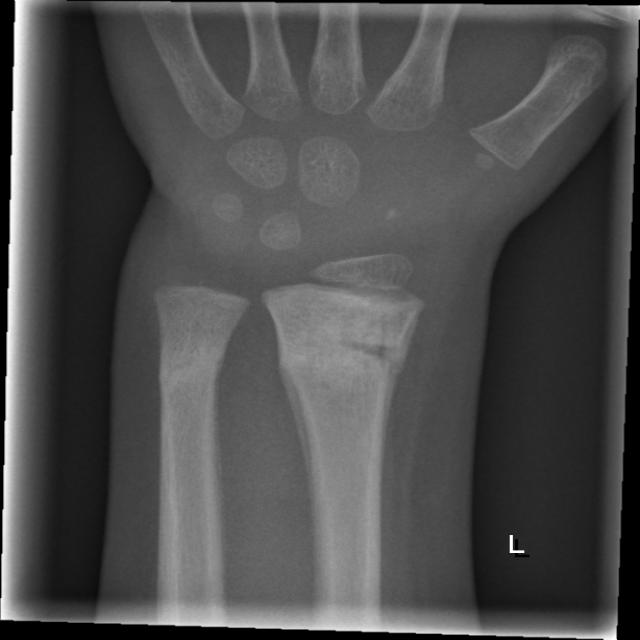radius fracture: (265, 298, 425, 493)
ulna fracture: (134, 323, 258, 465)
